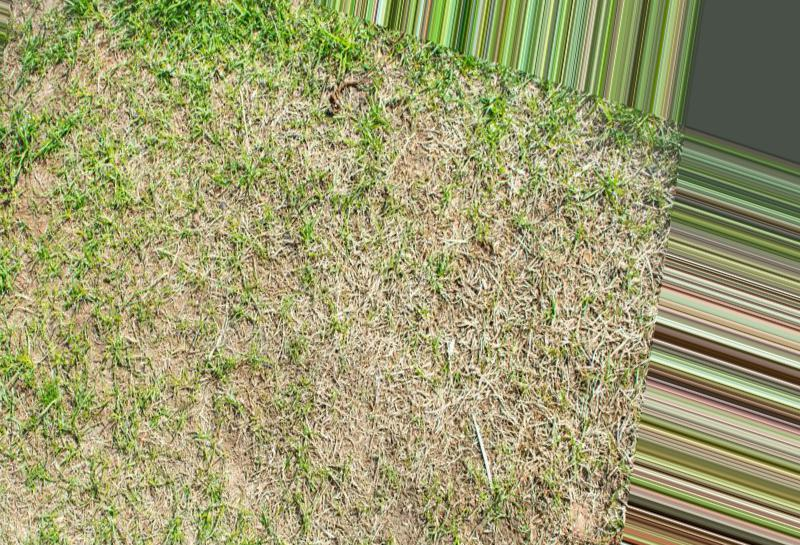patch: (53, 167, 267, 338), (309, 267, 474, 457), (415, 130, 527, 256)
